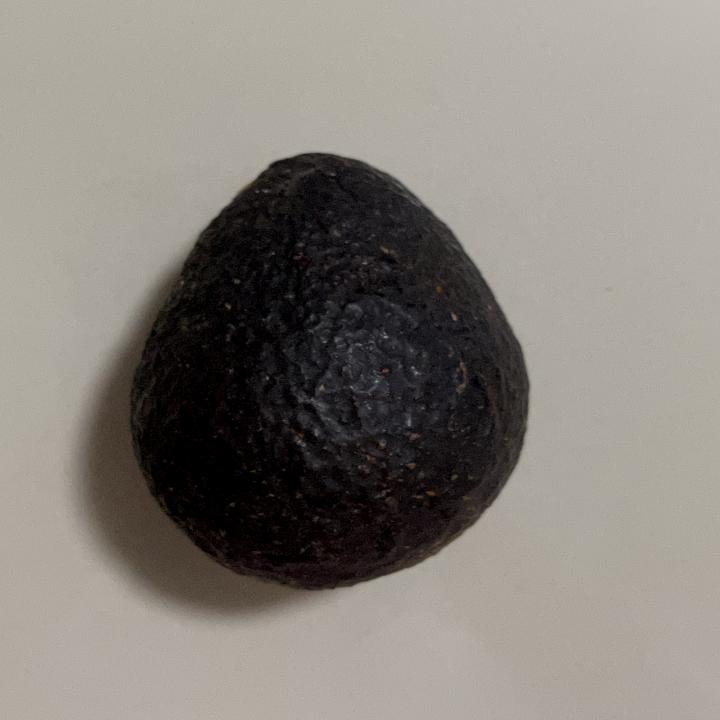Level3: (117, 143, 541, 597)
